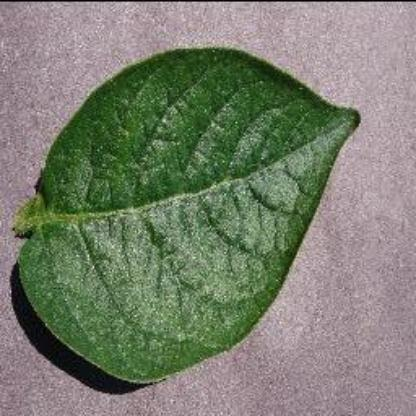Healthy-plant: (16, 43, 360, 387)
